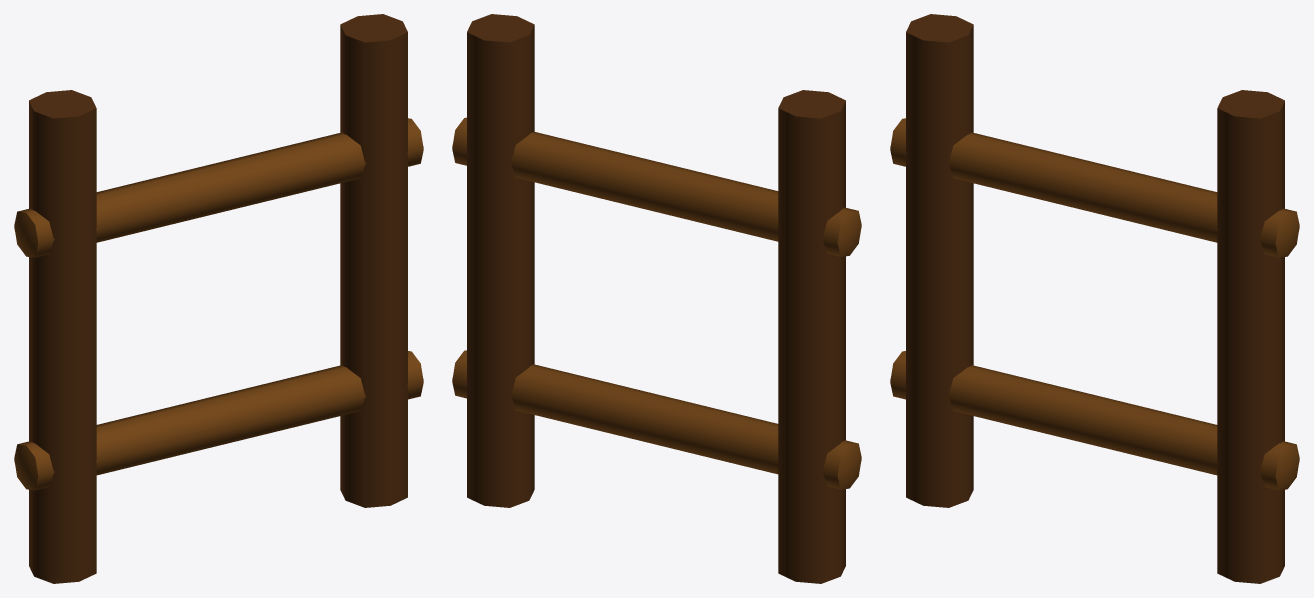
Rendered from Stairs.fbx.
3 views of the same model, side by side, from view 1: azimuth 30°, elevation 25°; view 2: azimuth 150°, elevation 25°; view 3: azimuth 330°, elevation 25° (orthographic).
Visible parts, largest first — view 1: Stairs; view 2: Stairs; view 3: Stairs.
Part boxes in pixels (left/top/right/bottom): Stairs: left=14, top=14, right=423, bottom=583; Stairs: left=452, top=14, right=861, bottom=583; Stairs: left=890, top=14, right=1299, bottom=583.
Bounding box in the file's own units: 177 × 200 × 25.75.
